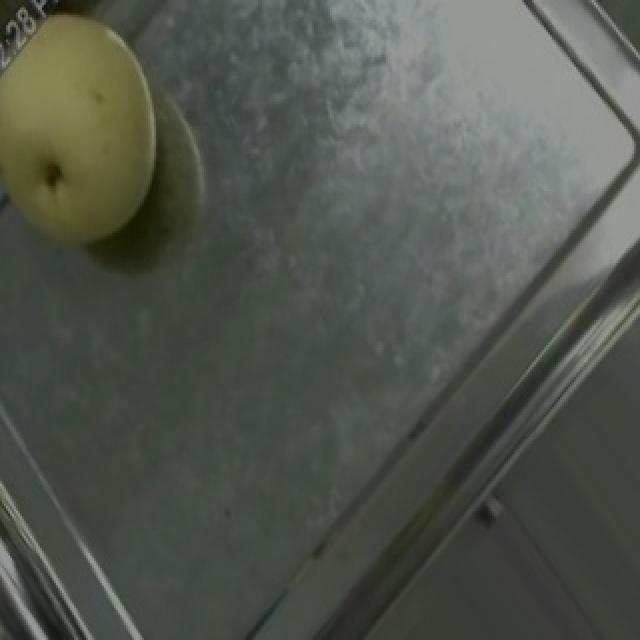Fruit: (0, 0, 196, 283)
